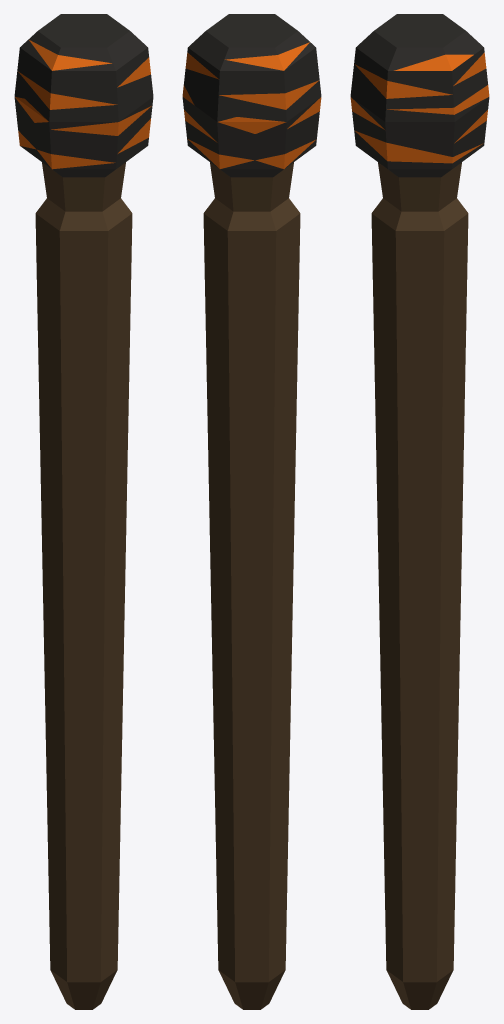
File: torch.gltf
3 renders of one model, left to right at view 1: azimuth 90°, elevation 25°; view 2: azimuth 150°, elevation 25°; view 3: azimuth 330°, elevation 25°, orthographic.
Parts seen in each view (by area): view 1: Torch; view 2: Torch; view 3: Torch.
Part boxes in pixels (bbox=[...]): Torch: bbox=[14, 14, 153, 1009]; Torch: bbox=[182, 14, 321, 1009]; Torch: bbox=[350, 14, 489, 1009].
Bounding box in the file's own units: 0.0915 × 0.8159 × 0.1057.
Materials: 2 (2 with a texture image).
